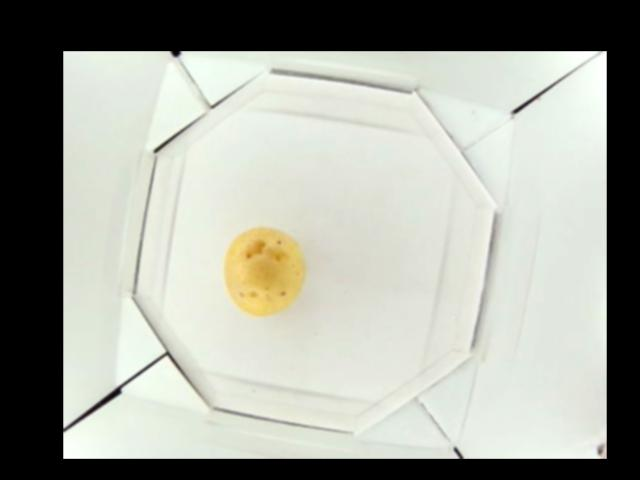Potato: (222, 224, 306, 316)
